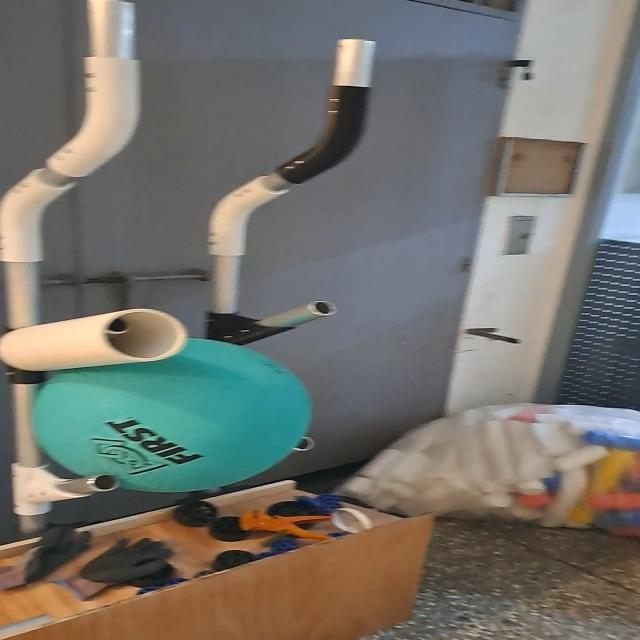ALGAE: (34, 338, 318, 495)
CORAL: (0, 296, 194, 375)
